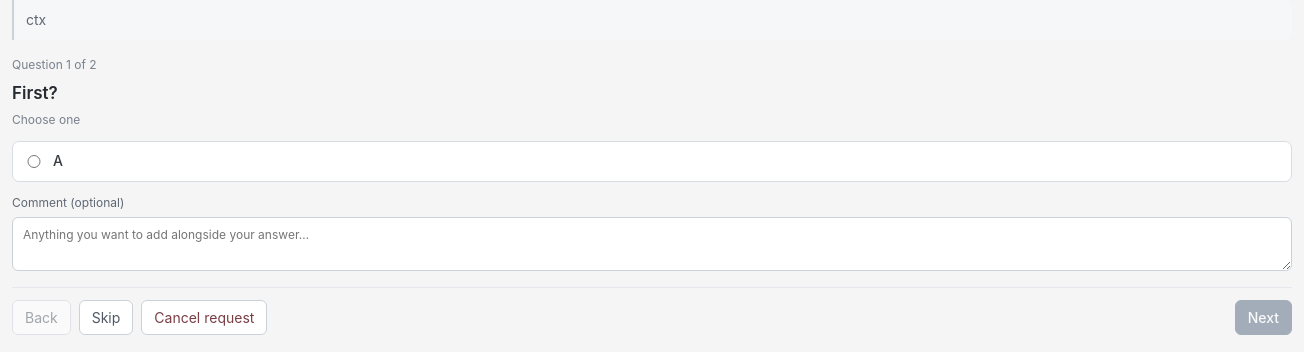
Test: QuestionRich — 1-4 question stepper › answering question 1 and clicking Next advances to question 2; Submit appears only on the last
Click the radio button labelled "A" at coordinates (34, 162), box left=25, top=155, right=43, bottom=168
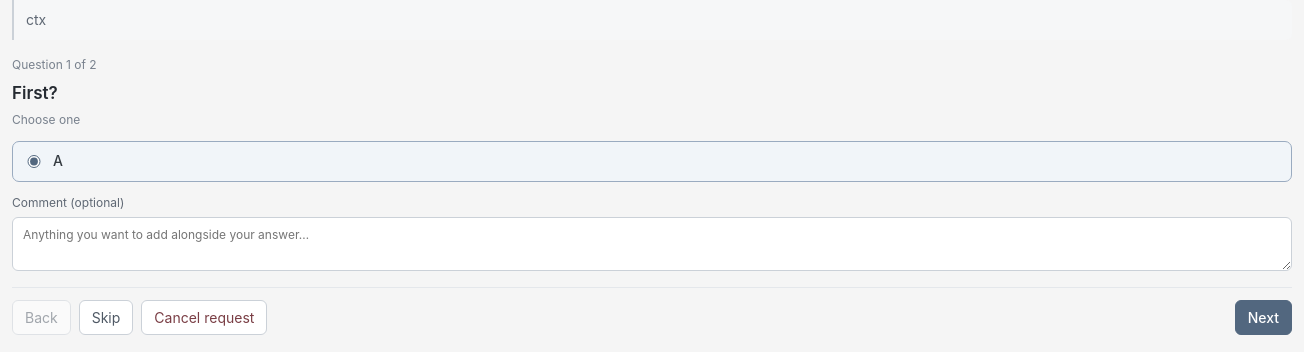
Click the button with test id "question-next" at coordinates (1263, 318), box left=1235, top=300, right=1292, bottom=335
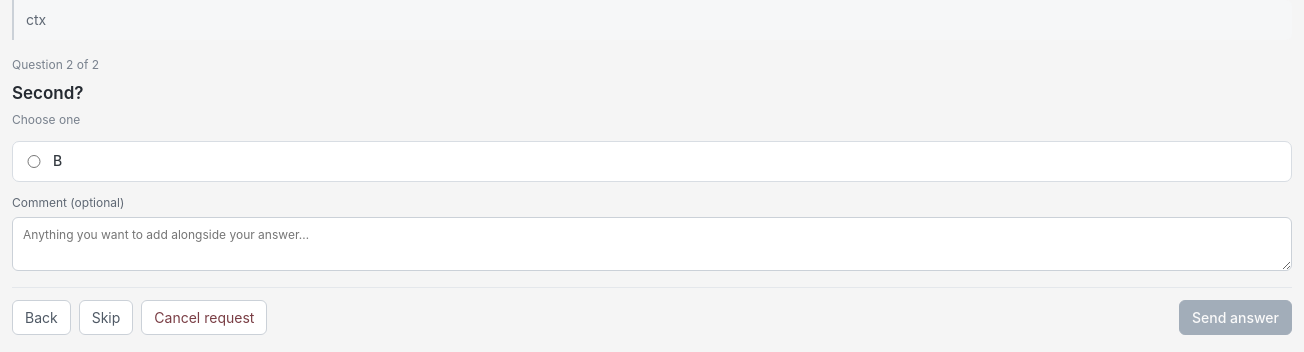
Expected: the text "Question 2 of 2" is shown, left=12, top=57, right=99, bottom=72
Expected: the button with test id "question-submit" is shown, left=1179, top=300, right=1292, bottom=335
